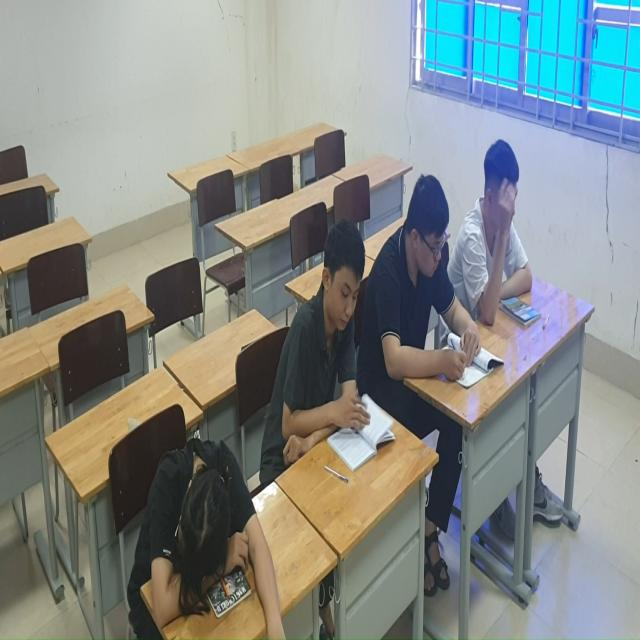raise_hand: (465, 136, 541, 350)
read: (269, 212, 401, 478), (373, 178, 507, 396)
sleep: (124, 439, 295, 640)
